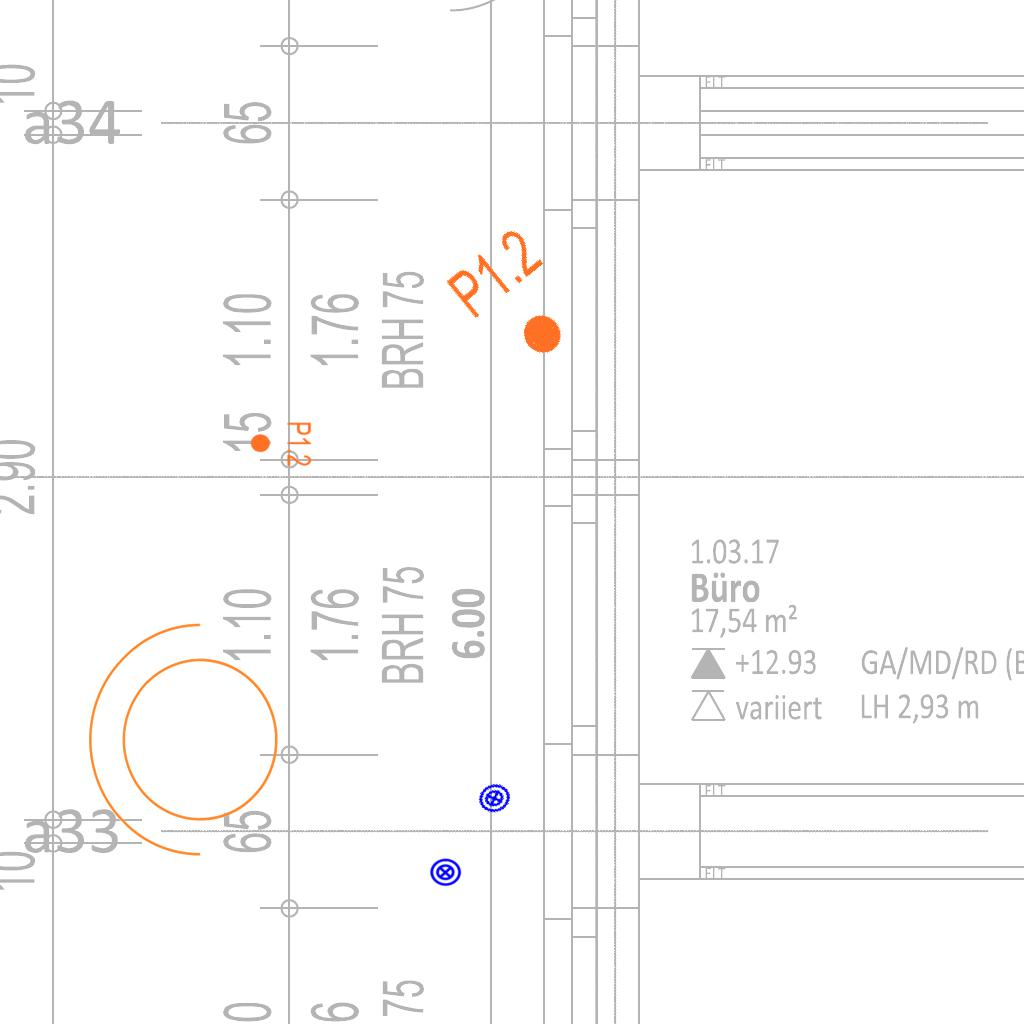Downlight_LED_Einbauleuchten_Flur: (441, 221, 594, 381), (249, 421, 313, 467)
Scheinwerfer_fuer_Alarmbeleuchtung: (78, 614, 303, 878)
Taster_beleuchtet: (473, 777, 516, 820), (429, 856, 462, 889)
